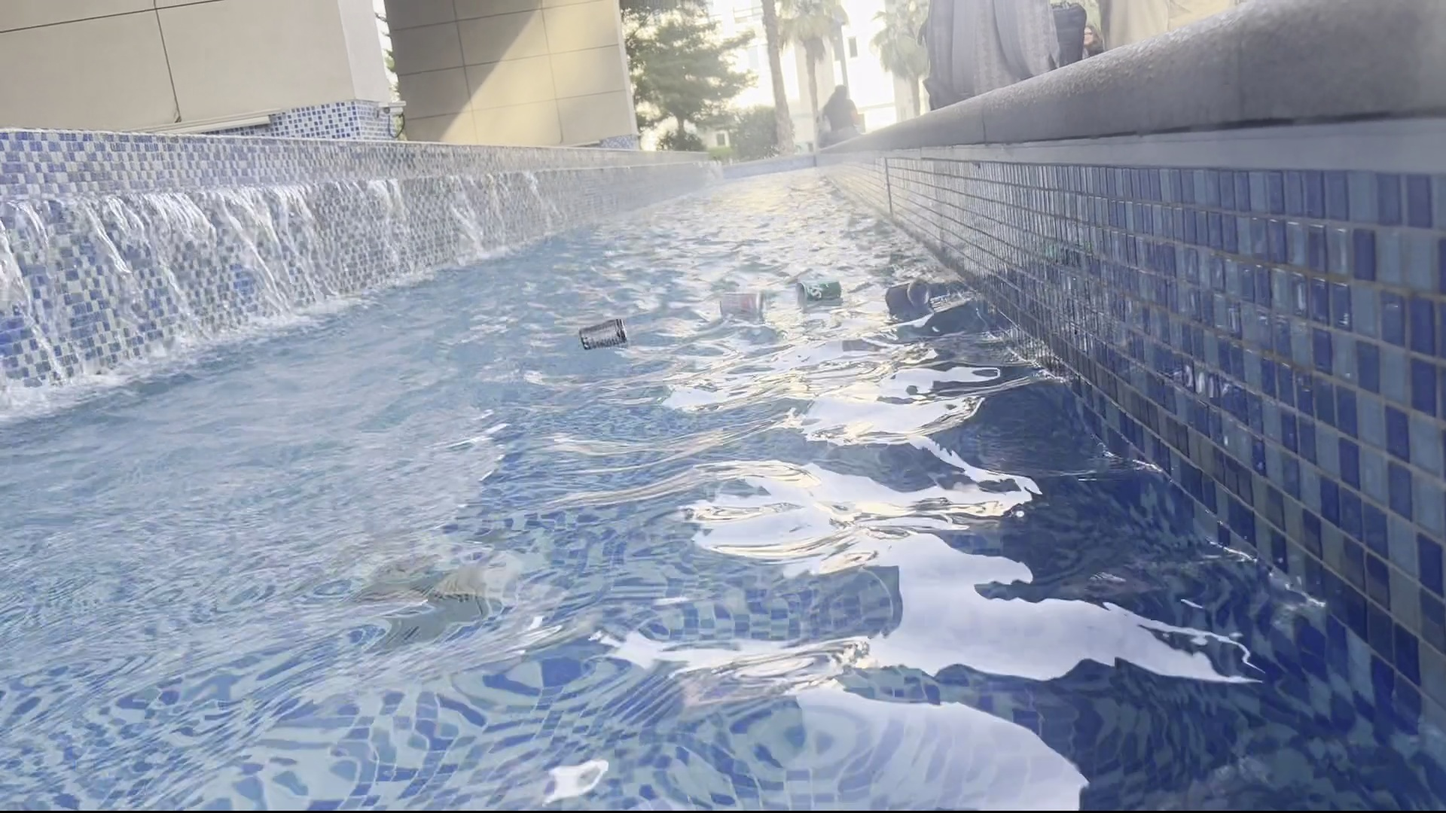debris: (575, 315, 631, 354), (718, 284, 770, 321), (881, 279, 932, 313), (792, 273, 845, 304)
